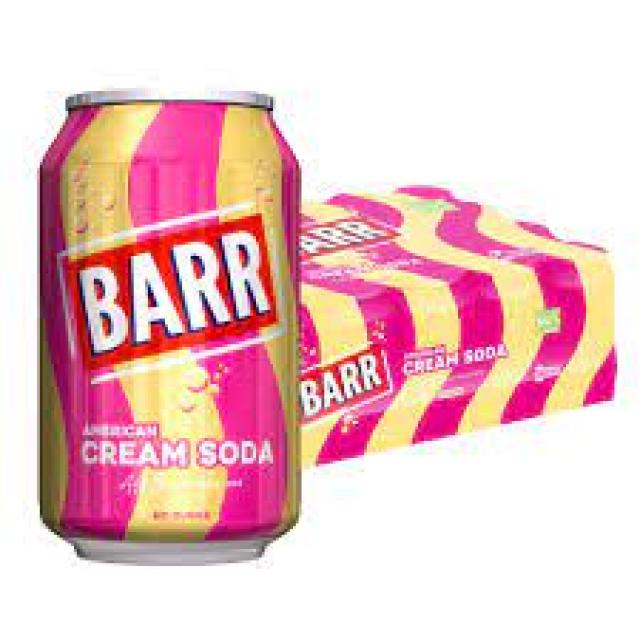Cans: (20, 66, 338, 574)
